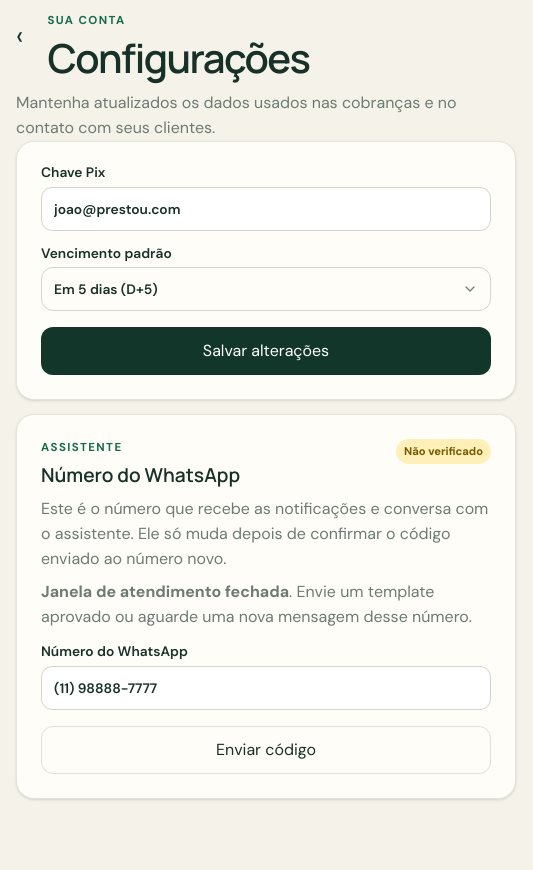
Test: número do WhatsApp nas configurações › envia o código para o número informado e confirma
expect the text "Não verificado" is shown: met, box x1=396 y1=439 x2=491 y2=464
Replace the text in the field labelled "Número do WhatsApp" with "11976543210" at (266, 688), box x1=41 y1=666 x2=491 y2=710
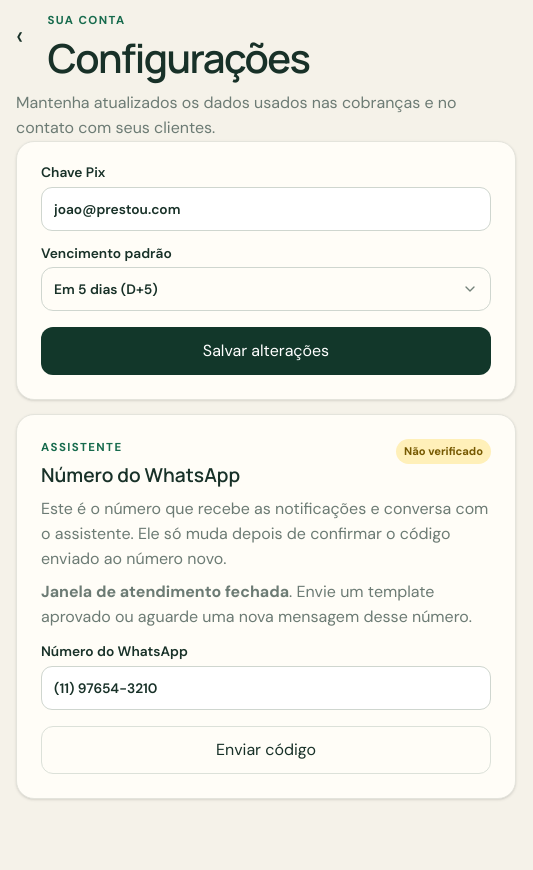
Click the button "Enviar código" at (266, 750), box x1=41 y1=726 x2=491 y2=774
(page scrolled)
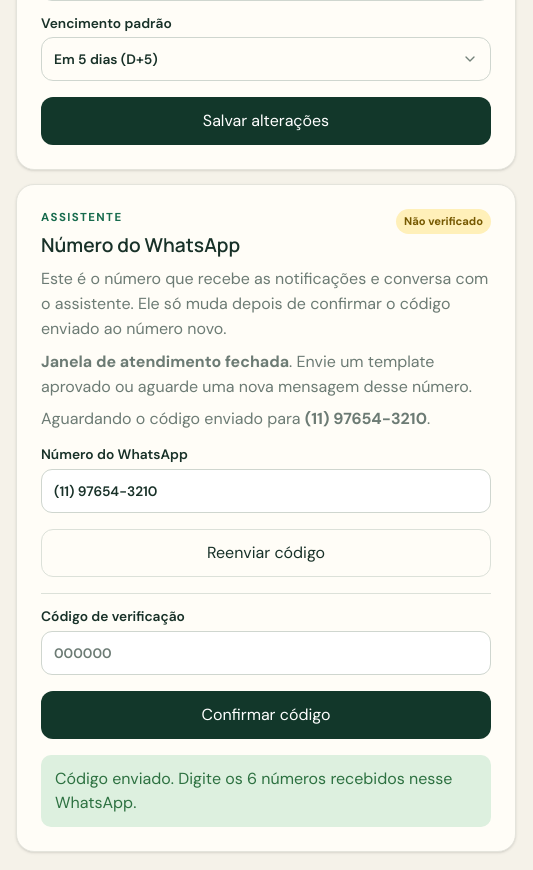
expect the text "Código enviado. Digite os 6 números recebidos nesse WhatsApp." is shown: met, box x1=41 y1=755 x2=491 y2=827
Type "123456" into the field labelled "Código de verificação" at (266, 653), box x1=41 y1=631 x2=491 y2=675
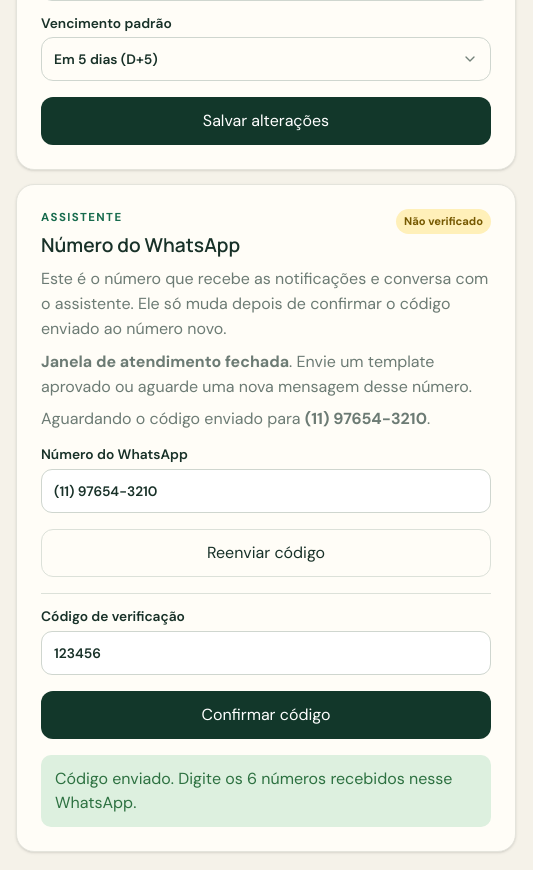
Click the button "Confirmar código" at (266, 715), box x1=41 y1=691 x2=491 y2=739
(page scrolled)
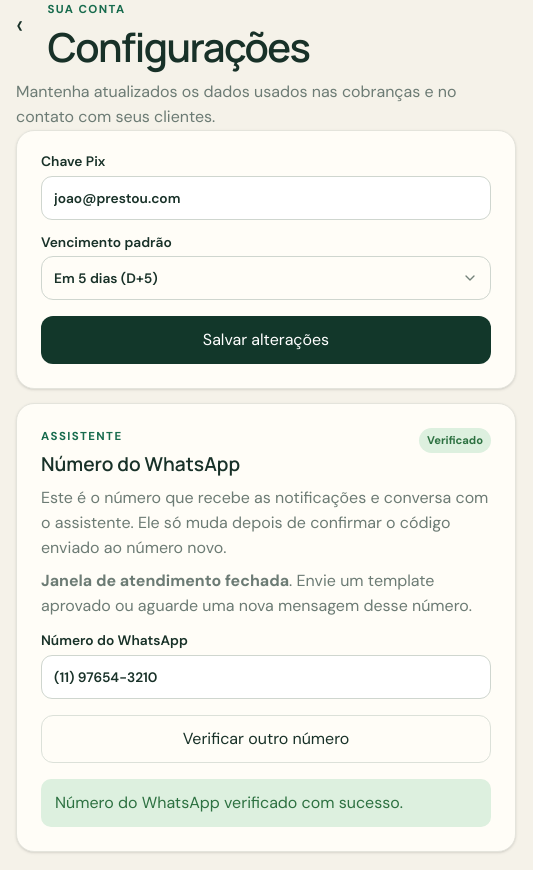
expect the text "Verificado" is shown: met, box x1=419 y1=428 x2=491 y2=453
expect the text "Número do WhatsApp verificado com sucesso." is shown: met, box x1=41 y1=779 x2=491 y2=827
